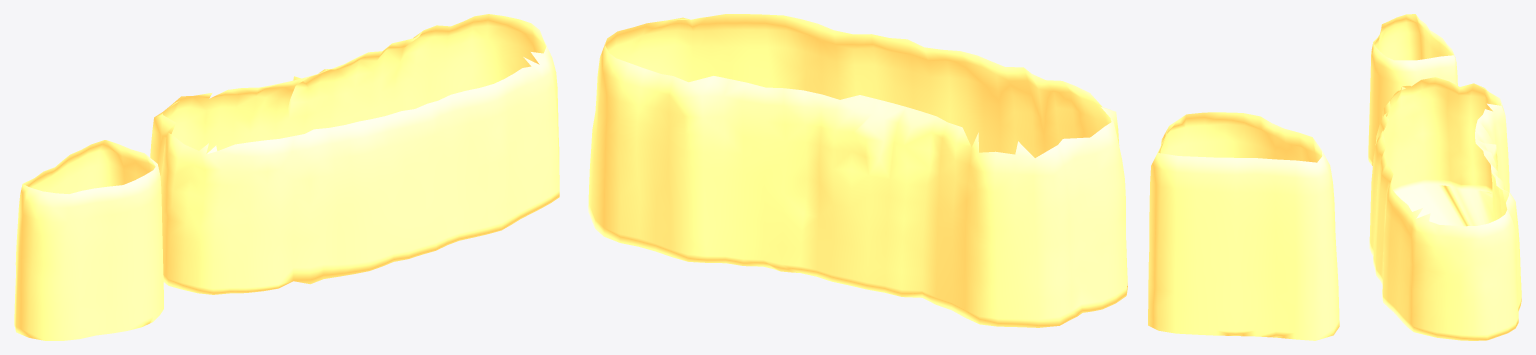
Rendered from fort_hover.glb.
3 renders of one model, left to right at view 1: azimuth 30°, elevation 25°; view 2: azimuth 150°, elevation 25°; view 3: azimuth 270°, elevation 25°, orthographic. The views are drawn at different scales.
Visible parts, largest first — view 1: fort_hover; view 2: fort_hover; view 3: fort_hover.
Part boxes in pixels (bbox=[...]): fort_hover: bbox=[14, 14, 559, 340]; fort_hover: bbox=[588, 14, 1339, 340]; fort_hover: bbox=[1368, 14, 1521, 340].
Bounding box in the file's own units: 3.06 × 0.7411 × 0.909.
